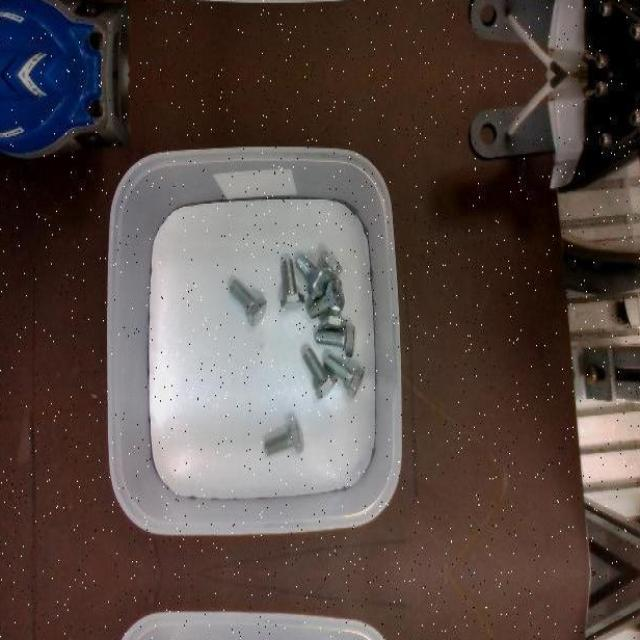screw: (303, 346, 339, 398), (324, 353, 365, 398), (230, 278, 267, 326), (295, 255, 331, 300), (307, 280, 345, 318), (265, 418, 304, 455), (317, 324, 356, 358), (280, 259, 306, 310)
